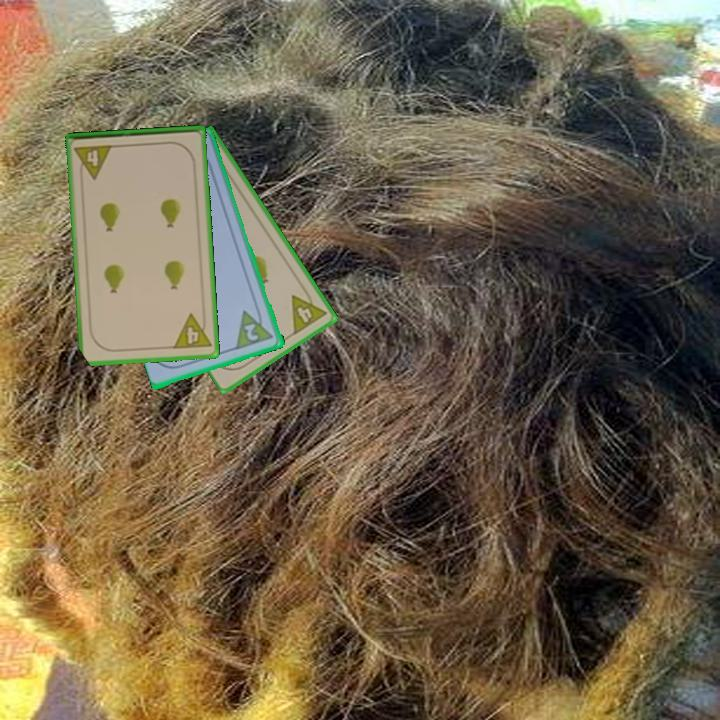2p: (233, 303, 277, 352)
4p: (288, 284, 330, 338), (170, 310, 214, 352), (71, 141, 116, 182)
